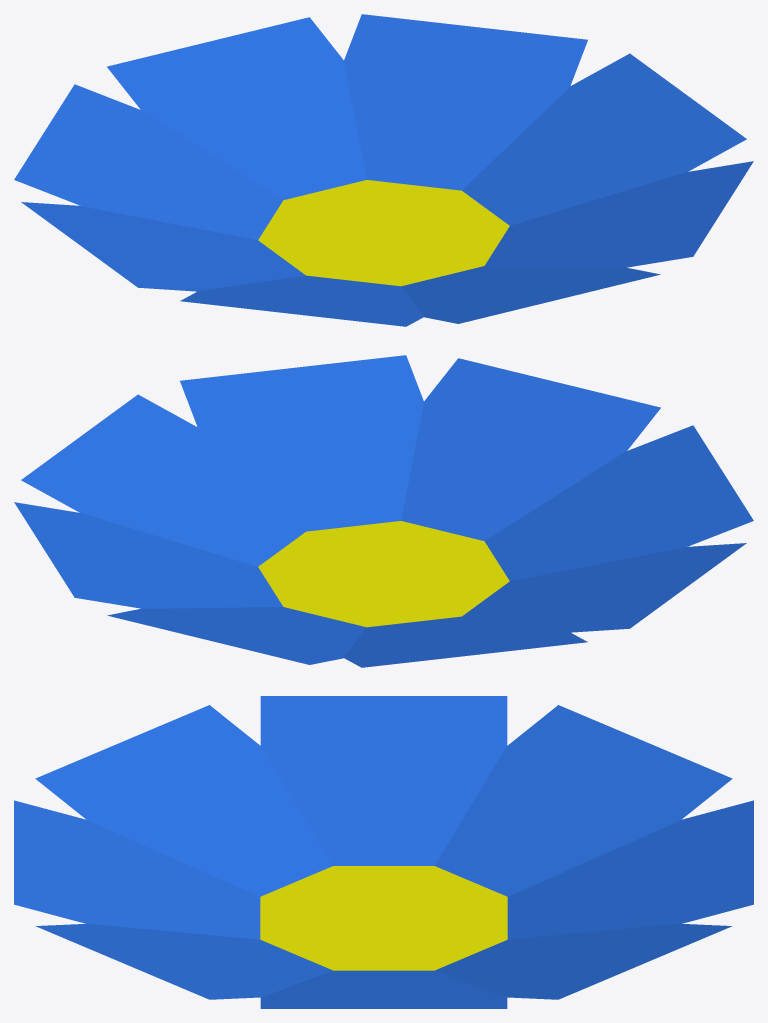
The model's file is flower_6.glb.
3 views of the same model, one above another, from view 1: azimuth 30°, elevation 25°; view 2: azimuth 150°, elevation 25°; view 3: azimuth 270°, elevation 25° (orthographic). The views are drawn at different scales.
Visible parts, largest first — view 1: flower_6; view 2: flower_6; view 3: flower_6.
Boxes of the visible parts, box(x1,y1,x2,y2) form: flower_6: box(14, 14, 753, 326); flower_6: box(14, 355, 753, 667); flower_6: box(14, 696, 753, 1008).
Size of the model in its own units: 0.4262 by 0.0419 by 0.4262.
